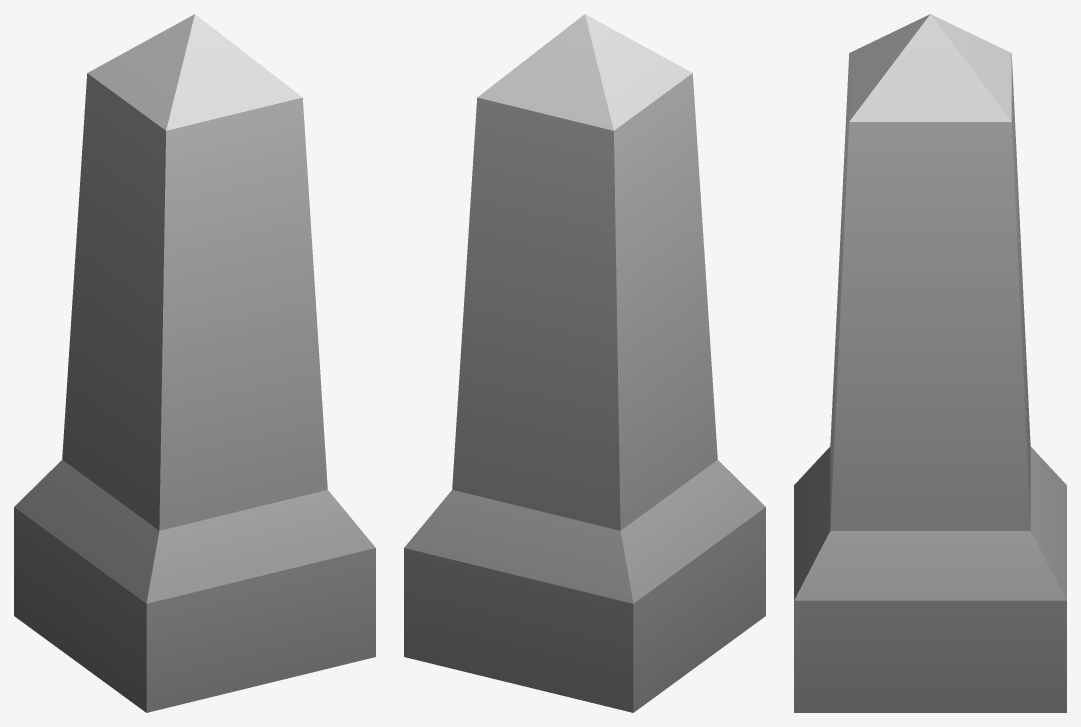
Rendered from [OBJ]Obelisco.fbx.
3 views of the same model, side by side, from view 1: azimuth 30°, elevation 25°; view 2: azimuth 150°, elevation 25°; view 3: azimuth 270°, elevation 25° (orthographic). The views are drawn at different scales.
Visible parts, largest first — view 1: [OBJ]Obelisco; view 2: [OBJ]Obelisco; view 3: [OBJ]Obelisco.
Boxes of the visible parts, box(x1,y1,x2,y2) form: [OBJ]Obelisco: box(14, 14, 375, 712); [OBJ]Obelisco: box(404, 14, 765, 712); [OBJ]Obelisco: box(794, 14, 1066, 712).
Bounding box in the file's own units: 68.93 × 179 × 68.93.
